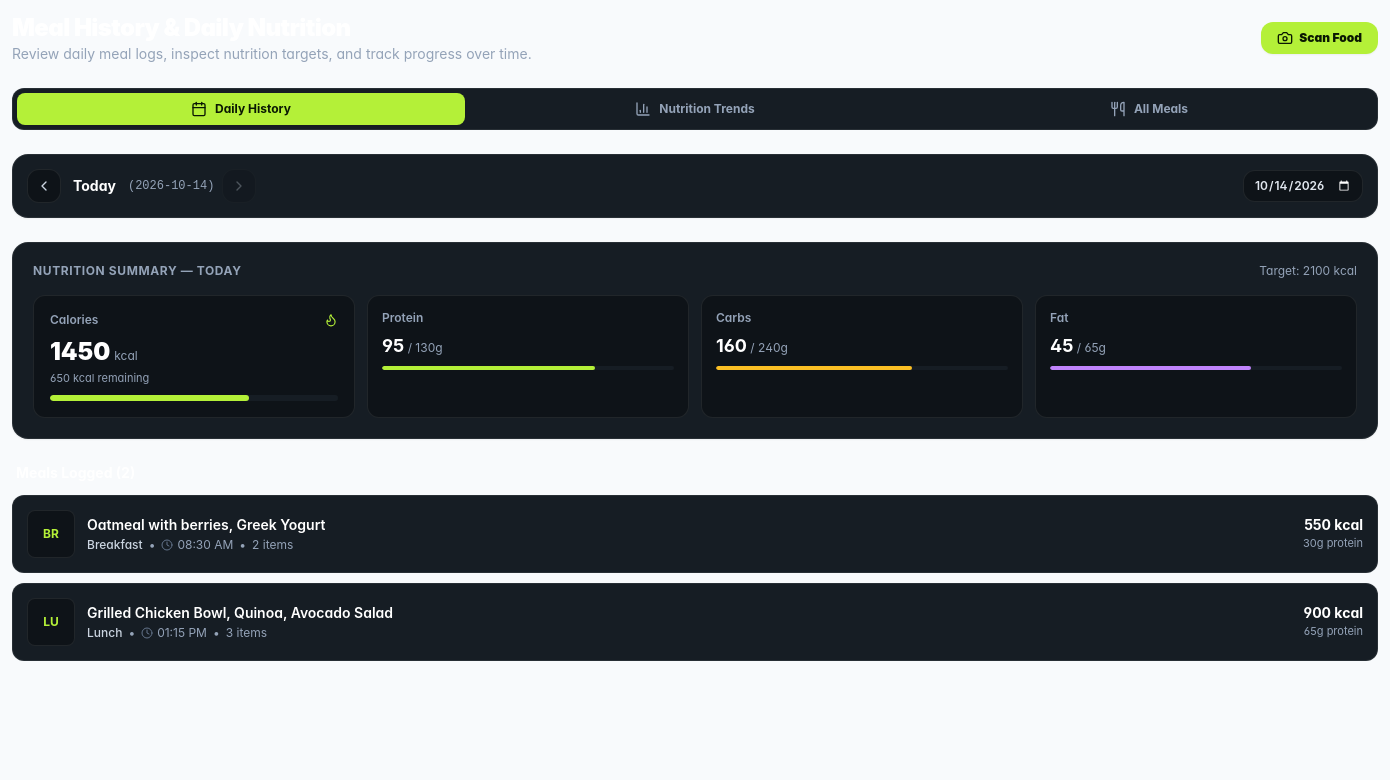
MealHistory Component - Date Navigation, Daily Totals & Historical Trends › 6. Enforces honest reporting guardrail when user has <= 1 logged day in Nutrition Trends
// Switch to Nutrition Trends tab
Click the button "Nutrition Trends" at coordinates (695, 109), box [471,93,919,125]
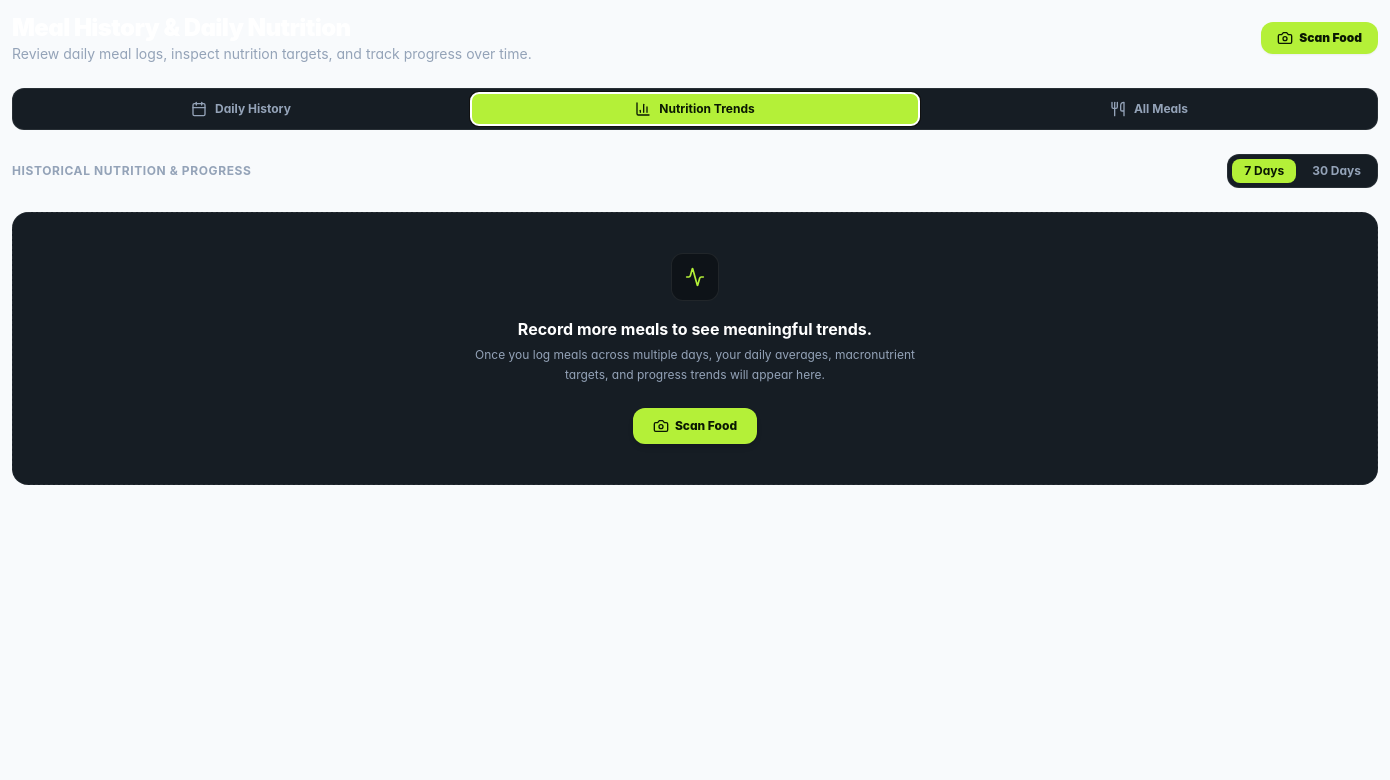
Expected: the heading "Record more meals to see meaningful trends." is shown, [518,319,872,339]
Expected: the text "Once you log meals across multiple days" is shown, [475,347,915,382]
